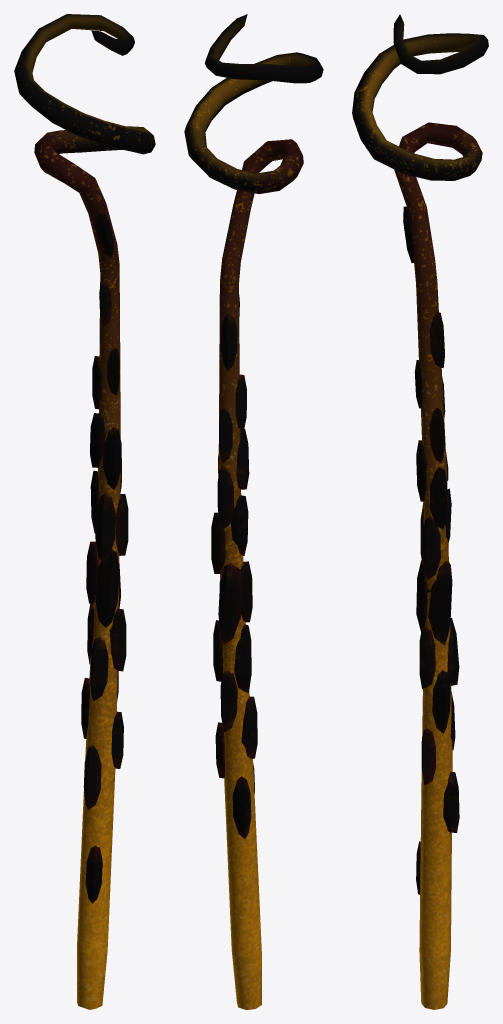
Rendered from flame_staff_MSH.fbx.
The picture shows the model from 3 angles, left to right: view 1: azimuth 30°, elevation 25°; view 2: azimuth 210°, elevation 25°; view 3: azimuth 270°, elevation 25°; orthographic projection.
Visible parts, largest first — view 1: fire_staff; view 2: fire_staff; view 3: fire_staff.
Part boxes in pixels (left/top/right/bottom): fire_staff: left=14, top=14, right=155, bottom=1009; fire_staff: left=184, top=14, right=323, bottom=1009; fire_staff: left=352, top=14, right=488, bottom=1009.
Size of the model in its own units: 0.2295 by 1.81 by 0.2266.
